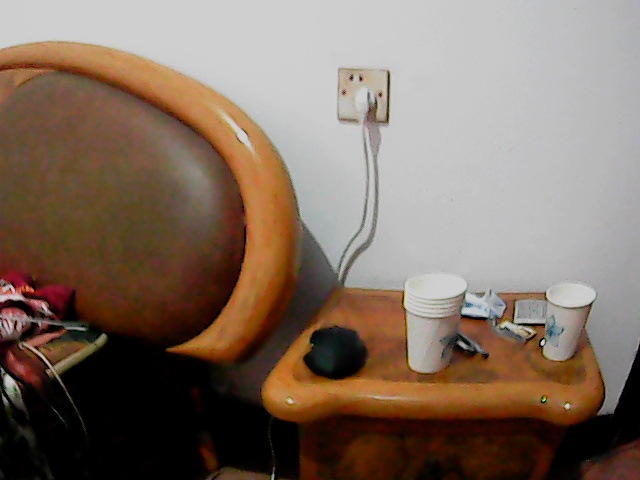cup: (405, 271, 467, 374)
mouse: (303, 322, 370, 379)
